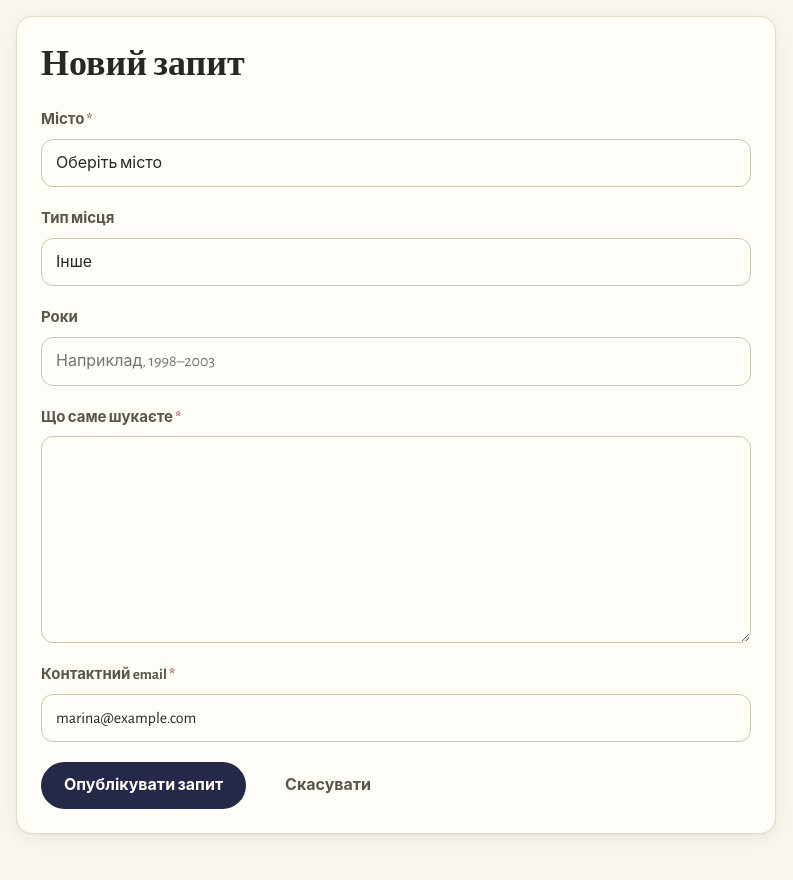
Test: LostNewPage › blocks submission with an inline message when years is a backwards range
Select "Київ" in the dropdown labelled "Місто *" at (396, 163), box [41,139,751,187]
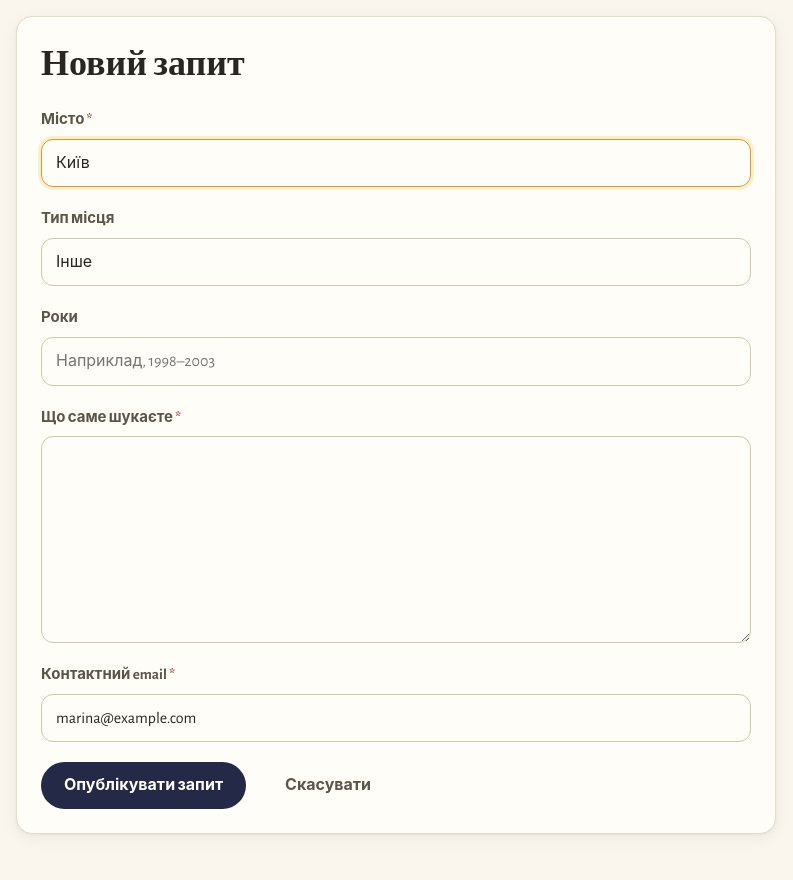
Type "2025-1990" into the field labelled "Роки" at (396, 361), box [41,337,751,386]
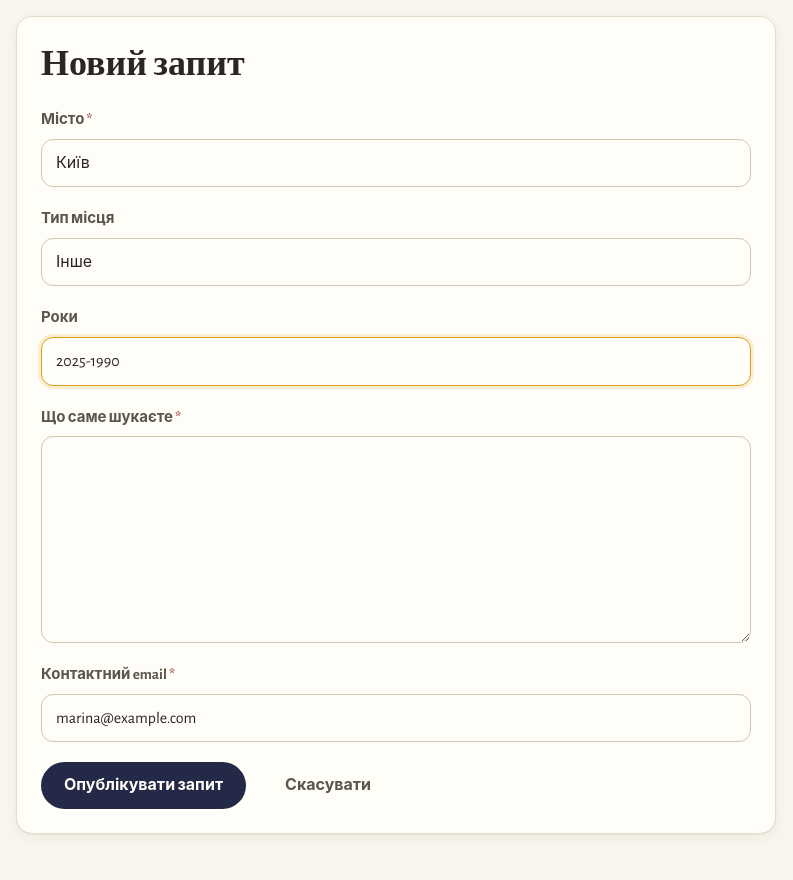
Type "Шукаю однокласників" into the text box labelled "Що саме шукаєте *" at (396, 540), box [41,436,751,643]
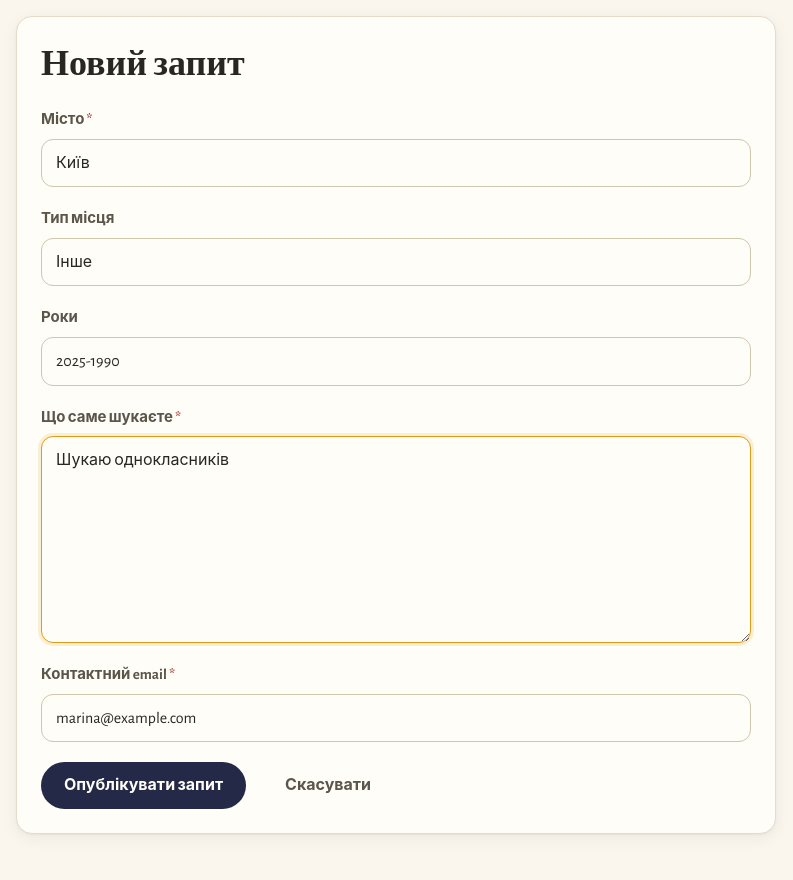
Click the button "Опублікувати запит" at (144, 785), box [41,762,246,809]
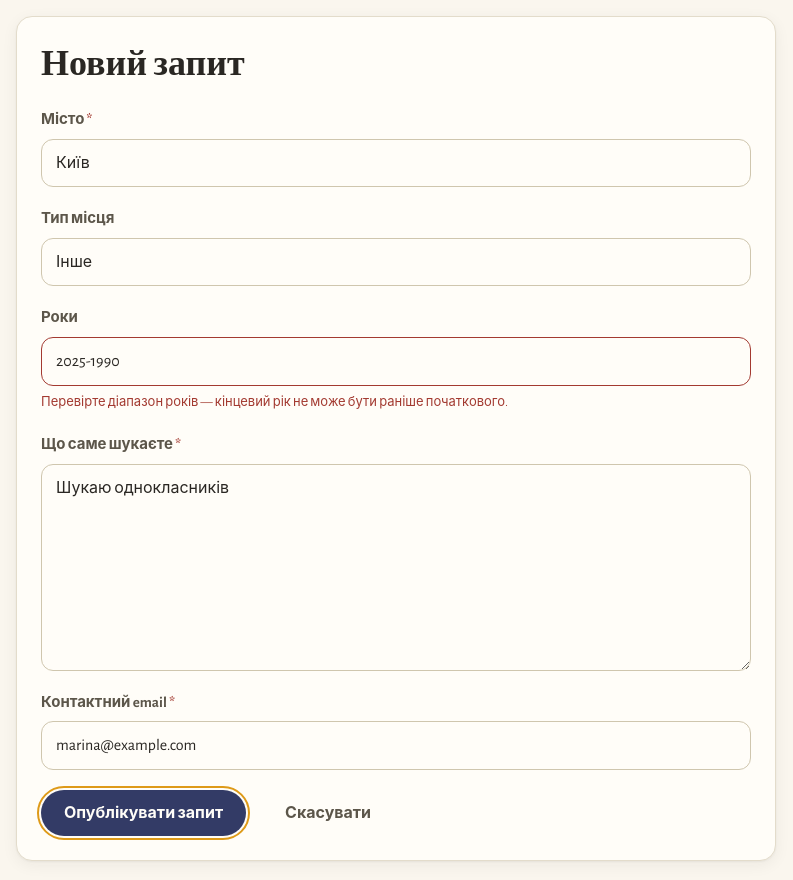
Result: the text "Перевірте діапазон років — кінцевий рік не може бути раніше початкового." is shown at [41,396,508,409]
